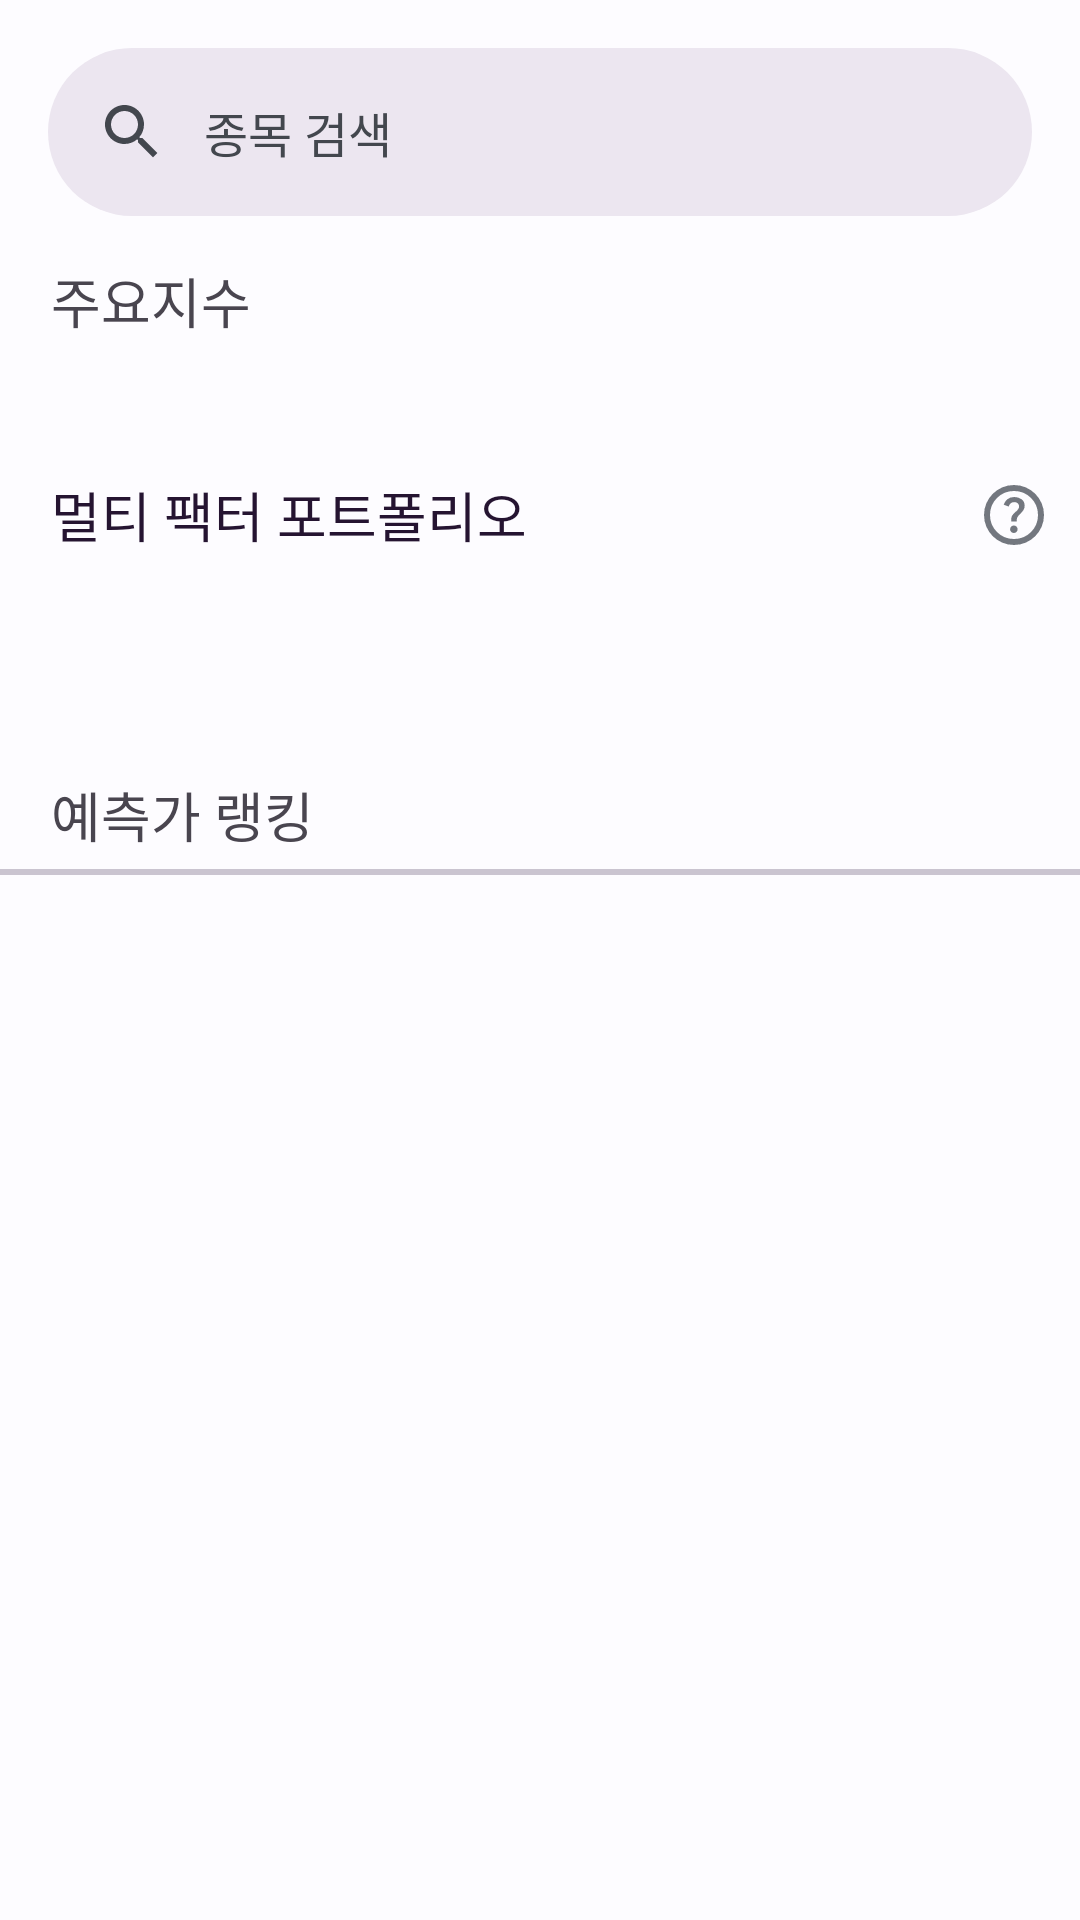

Named icons in this screenshot (1080 × 1920) and their bounding boxes, (x1, y1, x2, y2):
help: (984, 485, 1044, 545)
